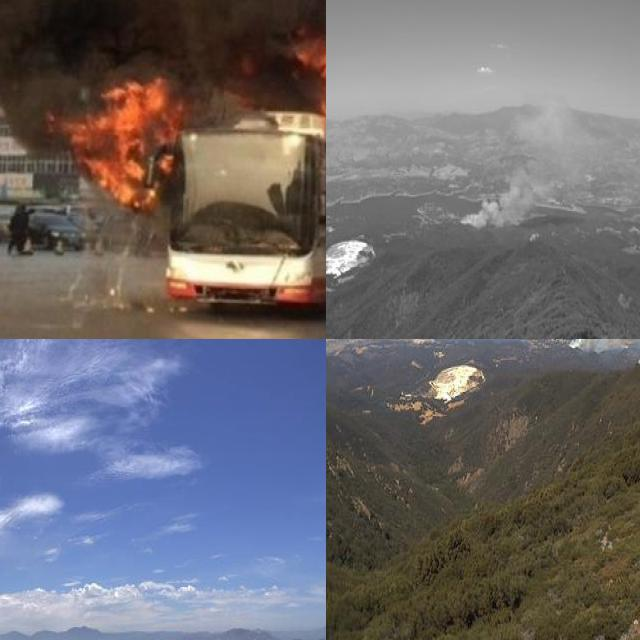fire: (55, 66, 187, 210)
smoke: (0, 0, 326, 122), (457, 96, 604, 232)
